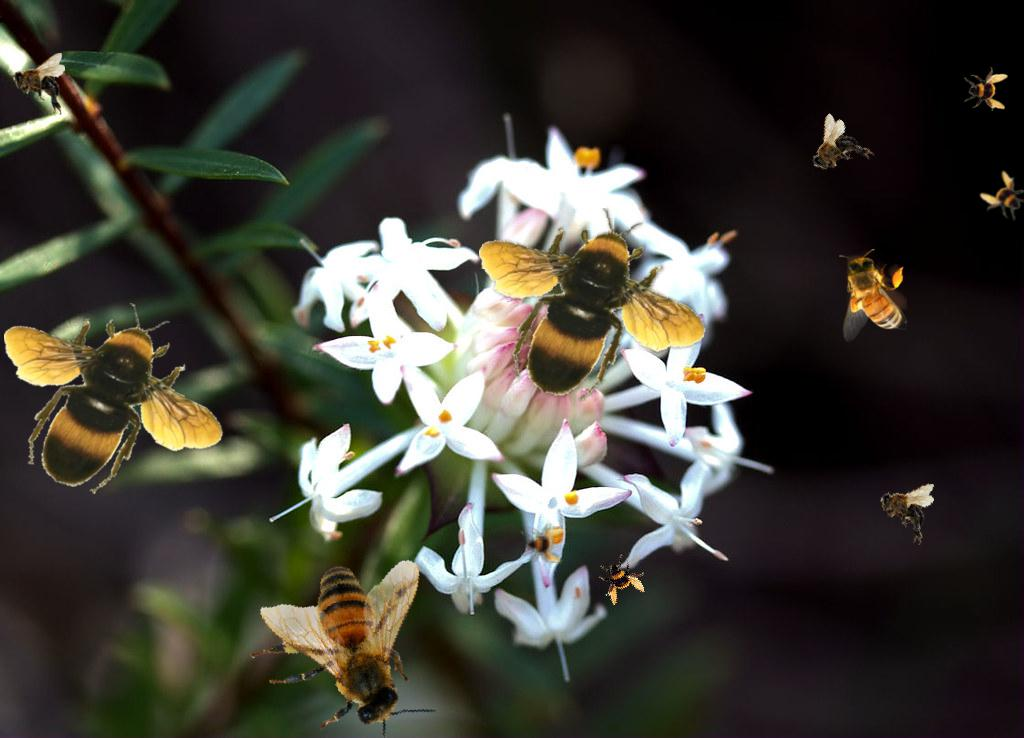Bee: (229, 525, 476, 738), (476, 199, 712, 410), (4, 303, 224, 494), (795, 110, 878, 192), (839, 249, 907, 342), (872, 474, 937, 546), (592, 549, 652, 609), (12, 53, 65, 115), (974, 167, 1024, 229), (521, 521, 565, 565), (964, 67, 1008, 111)
